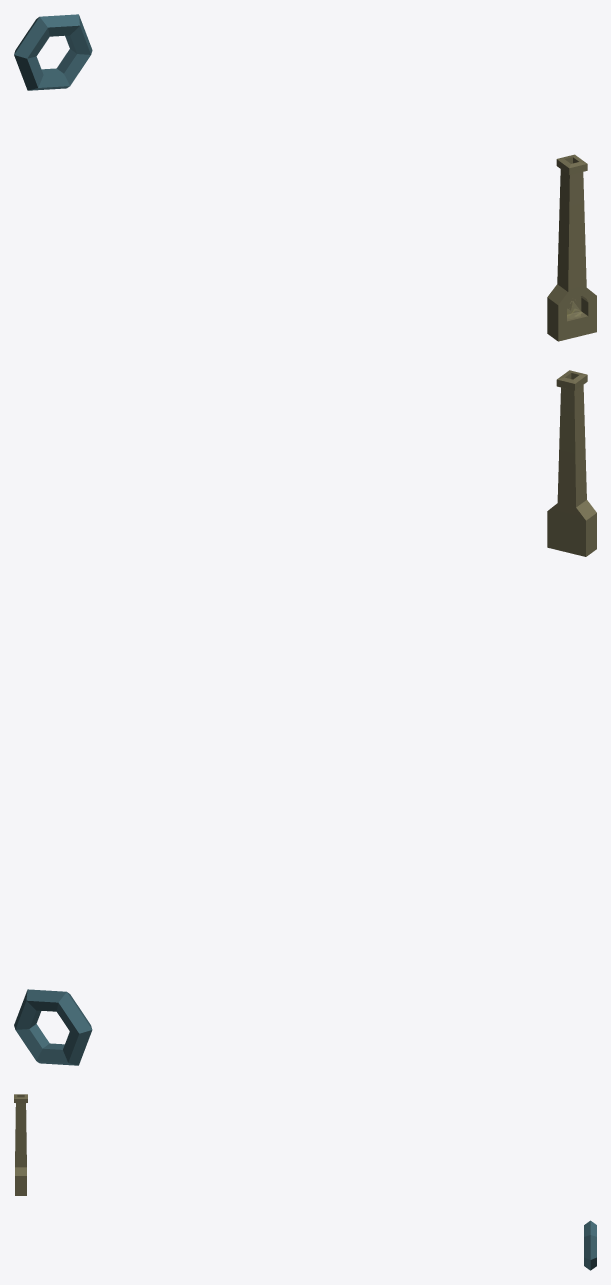
3 renders of one model, top to bottom at view 1: azimuth 30°, elevation 25°; view 2: azimuth 150°, elevation 25°; view 3: azimuth 270°, elevation 25°, orthographic. The views are drawn at different scales.
Visible parts, largest first — view 1: Box15385_rock2_0, Torus024_metal_0; view 2: Box15385_rock2_0, Torus024_metal_0; view 3: Box15385_rock2_0, Torus024_metal_0.
Boxes of the visible parts, box(x1,y1,x2,y2) form: Box15385_rock2_0: box(547, 154, 596, 341); Torus024_metal_0: box(14, 14, 92, 90); Box15385_rock2_0: box(547, 370, 596, 556); Torus024_metal_0: box(14, 989, 92, 1065); Box15385_rock2_0: box(14, 1094, 27, 1195); Torus024_metal_0: box(584, 1220, 596, 1270).
Bounding box in the file's own units: 343 × 1301 × 4025.
